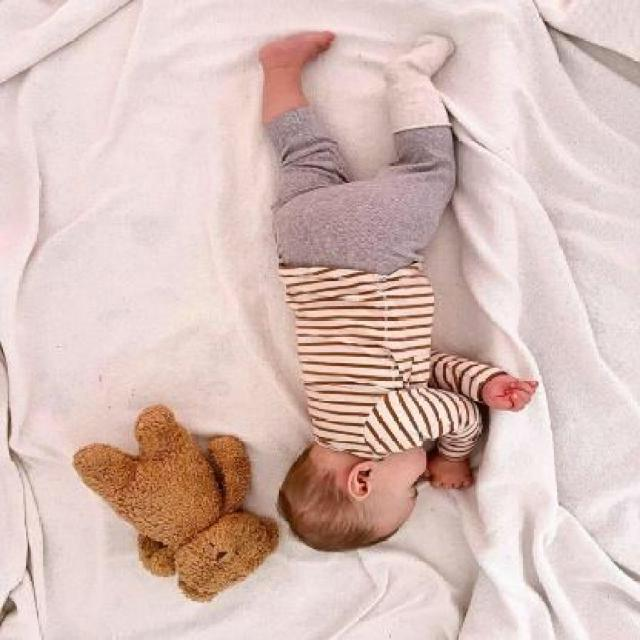child: (263, 36, 543, 556)
